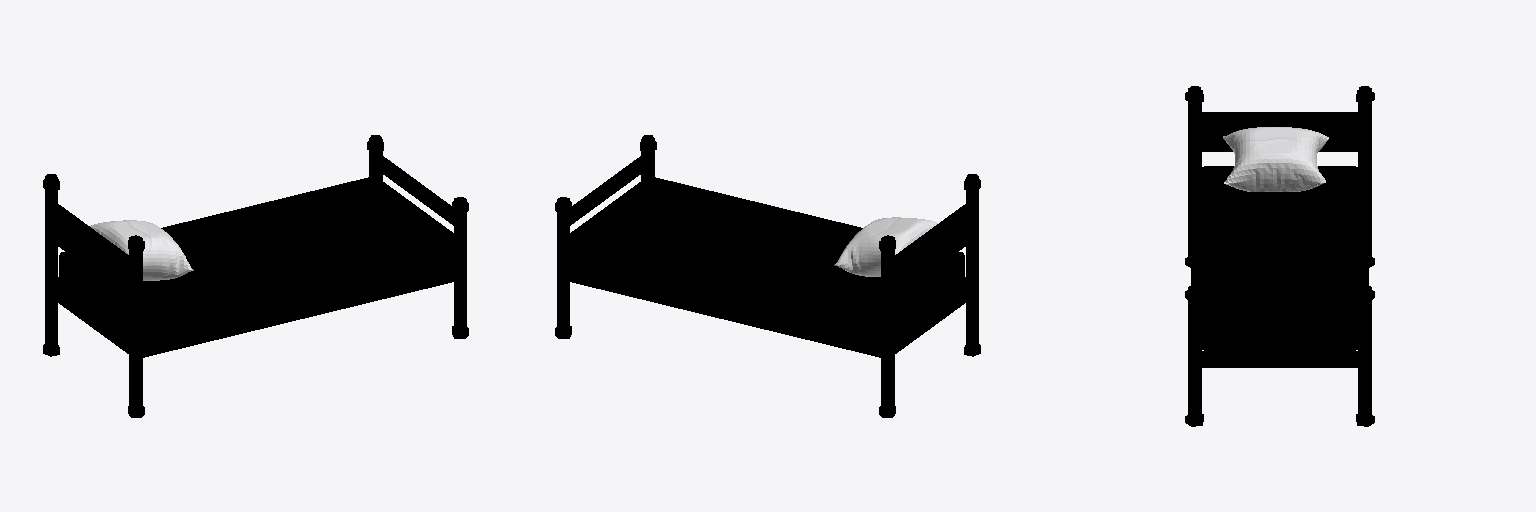
The picture shows the model from 3 angles: view 1: azimuth 30°, elevation 25°; view 2: azimuth 150°, elevation 25°; view 3: azimuth 270°, elevation 25°; orthographic projection.
Visible parts, largest first — view 1: cama02:cox_o1, pillow1:group7 pillow1:pasted__Pillow pillow1:polySurface1; view 2: cama02:cox_o1, pillow1:group7 pillow1:pasted__Pillow pillow1:polySurface1; view 3: cama02:cox_o1, pillow1:group7 pillow1:pasted__Pillow pillow1:polySurface1.
Boxes of the visible parts, x1,y1,x2,y2 form: cama02:cox_o1: [43, 135, 468, 417]; pillow1:group7 pillow1:pasted__Pillow pillow1:polySurface1: [90, 220, 193, 280]; cama02:cox_o1: [555, 135, 980, 417]; pillow1:group7 pillow1:pasted__Pillow pillow1:polySurface1: [834, 217, 938, 276]; cama02:cox_o1: [1185, 86, 1374, 426]; pillow1:group7 pillow1:pasted__Pillow pillow1:polySurface1: [1223, 127, 1328, 191].
Bounding box in the file's own units: 5.09 × 2.54 × 2.46.
3 materials, 1 textured.